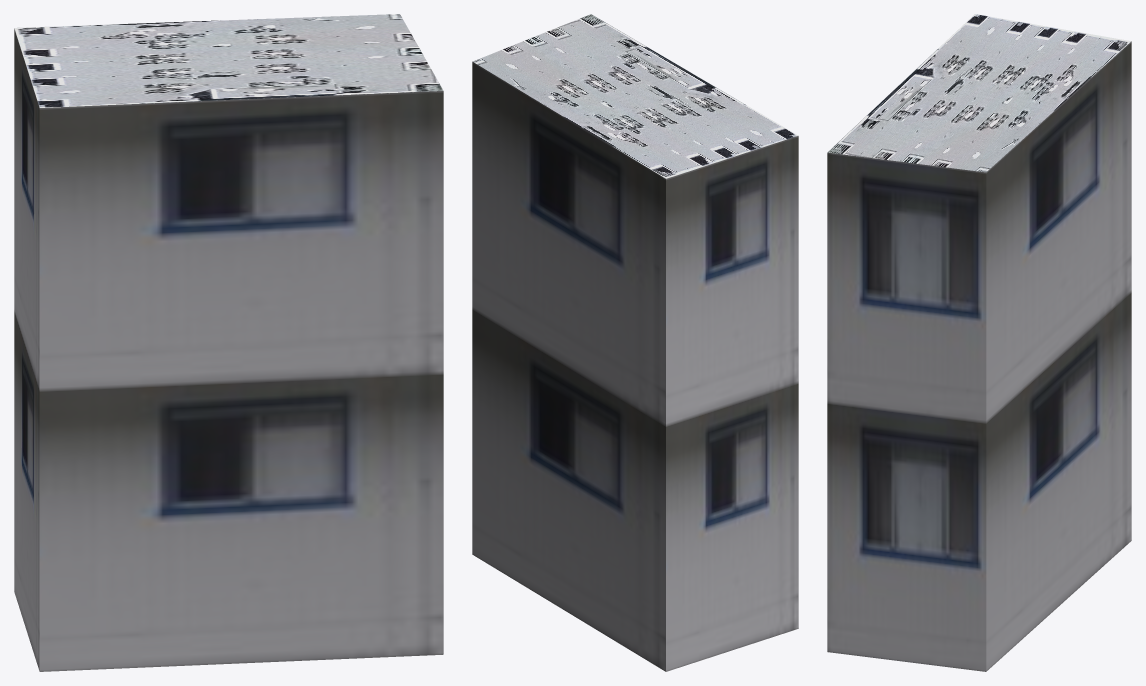
File: ResTex__2561.fbx
The picture shows the model from 3 angles, left to right: view 1: azimuth 30°, elevation 25°; view 2: azimuth 150°, elevation 25°; view 3: azimuth 270°, elevation 25°; orthographic projection. The views are drawn at different scales.
Parts seen in each view (by area): view 1: CityEngineMaterial_9_m, CityEngineMaterial_8_m; view 2: CityEngineMaterial_9_m, CityEngineMaterial_8_m; view 3: CityEngineMaterial_9_m, CityEngineMaterial_8_m.
Boxes of the visible parts, x1,y1,x2,y2 form: CityEngineMaterial_9_m: (14,29,443,671); CityEngineMaterial_8_m: (14,14,443,107); CityEngineMaterial_9_m: (472,61,798,671); CityEngineMaterial_8_m: (473,14,797,178); CityEngineMaterial_9_m: (827,41,1131,671); CityEngineMaterial_8_m: (827,14,1131,172).
Size of the model in its own units: 4.08 by 6 by 3.31.
Materials: 2 (2 with a texture image).
